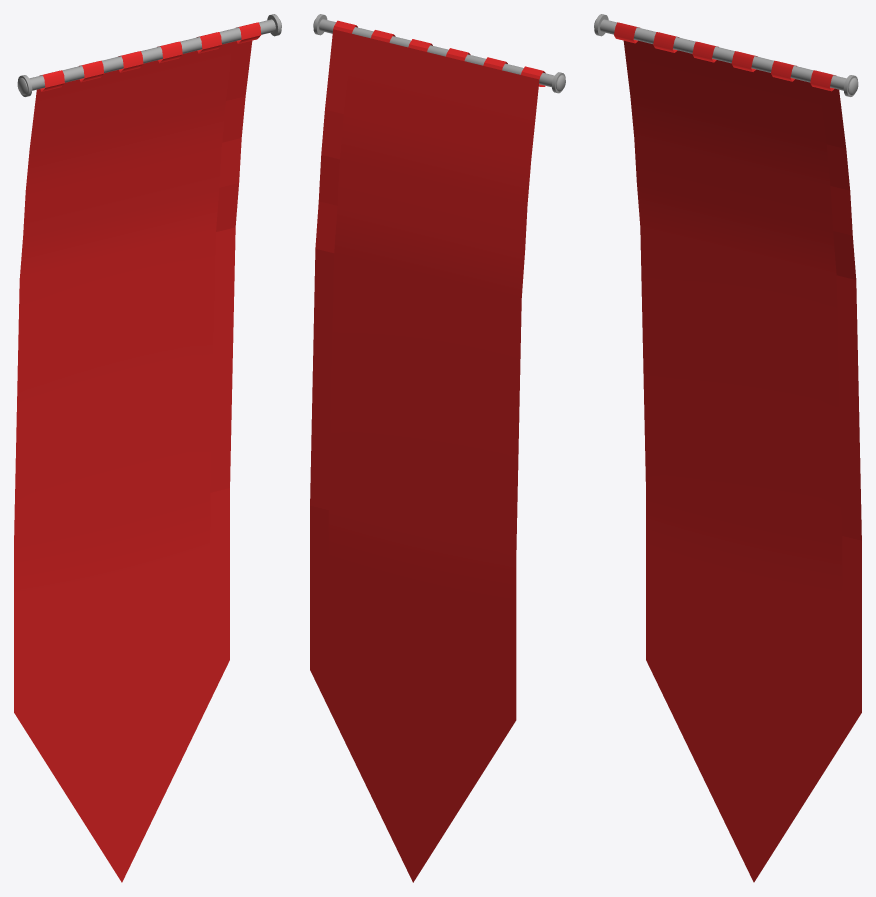
Rendered from Banderas.fbx.
3 renders of one model, left to right at view 1: azimuth 30°, elevation 25°; view 2: azimuth 150°, elevation 25°; view 3: azimuth 330°, elevation 25°, orthographic. The views are drawn at different scales.
Parts seen in each view (by area): view 1: Bandera, Sosten_de_bandera; view 2: Bandera, Sosten_de_bandera; view 3: Bandera, Sosten_de_bandera.
Part boxes in pixels (box(x1,y1,x2,y2)): Bandera: box(14, 22, 261, 882); Sosten_de_bandera: box(17, 14, 281, 96); Bandera: box(310, 20, 545, 882); Sosten_de_bandera: box(313, 14, 565, 93); Bandera: box(614, 22, 861, 882); Sosten_de_bandera: box(594, 14, 858, 96).
Bounding box in the file's own units: 2.23 × 7.1 × 0.4983.
